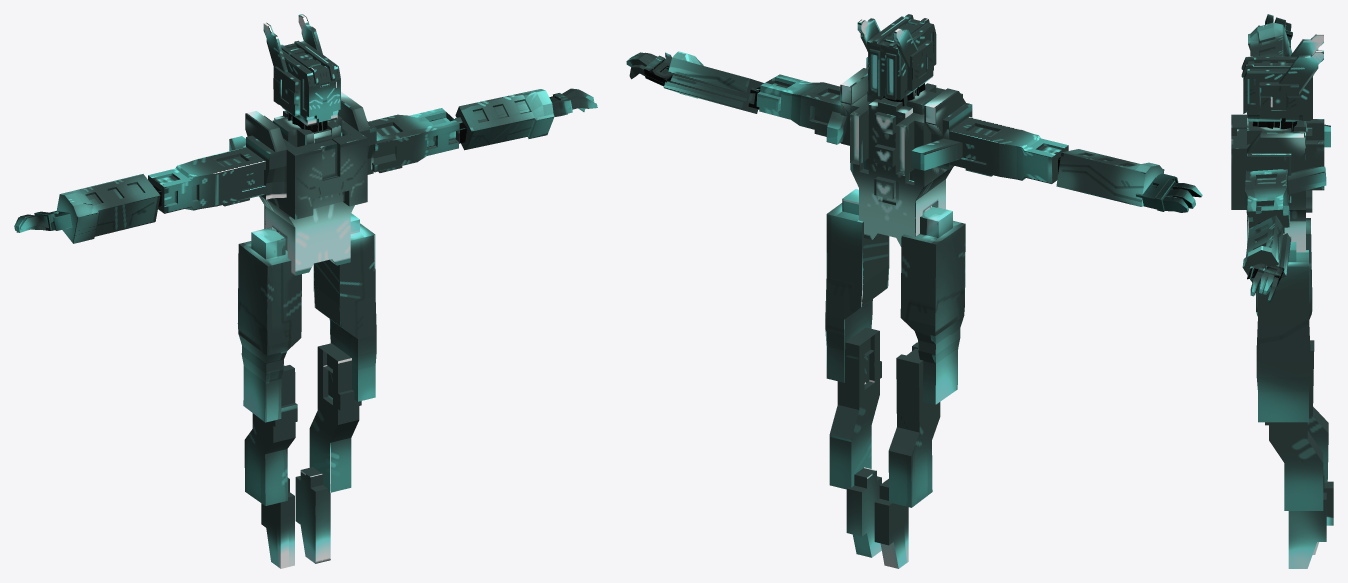
File: Player Model .fbx
The picture shows the model from 3 angles, left to right: view 1: azimuth 30°, elevation 25°; view 2: azimuth 150°, elevation 25°; view 3: azimuth 270°, elevation 25°; orthographic projection. The views are drawn at different scales.
Parts seen in each view (by area): view 1: Cube.001, Cube.014, Cube.004, Cube.006, Cube.011, Cube, Cube.012, Cube.005, Cube.009, Cube.008, Cube.007, Cube.003 (+1 smaller); view 2: Cube.001, Cube.014, Cube.004, Cube.011, Cube.006, Cube.005, Cube, Cube.008, Cube.012, Cube.009, Cube.007, Cube.003 (+1 smaller); view 3: Cube.004, Cube.001, Cube, Cube.006, Cube.008, Cube.009, Cube.007, Cube.012, Cube.005, Cube.014, Cube.003, Cube.023 (+4 smaller).
Boxes of the visible parts, left/top/right/bottom form: Cube.001: left=245, top=91, right=376, bottom=275; Cube.014: left=237, top=227, right=301, bottom=422; Cube.004: left=313, top=213, right=376, bottom=401; Cube.006: left=309, top=343, right=361, bottom=492; Cube.011: left=148, top=136, right=265, bottom=213; Cube: left=263, top=14, right=340, bottom=126; Cube.012: left=56, top=174, right=160, bottom=243; Cube.005: left=244, top=365, right=297, bottom=505; Cube.009: left=454, top=89, right=554, bottom=150; Cube.008: left=369, top=108, right=459, bottom=172; Cube.007: left=295, top=467, right=330, bottom=563; Cube.003: left=261, top=477, right=294, bottom=568; Cube.001: left=840, top=68, right=972, bottom=246; Cube.014: left=900, top=206, right=965, bottom=404; Cube.004: left=825, top=189, right=889, bottom=382; Cube.011: left=911, top=117, right=1068, bottom=183; Cube.006: left=829, top=327, right=881, bottom=489; Cube.005: left=888, top=342, right=940, bottom=507; Cube: left=857, top=14, right=936, bottom=100; Cube.008: left=756, top=74, right=846, bottom=144; Cube.012: left=1056, top=149, right=1164, bottom=206; Cube.009: left=663, top=51, right=763, bottom=113; Cube.007: left=846, top=467, right=881, bottom=557; Cube.003: left=874, top=479, right=908, bottom=568; Cube.004: left=1256, top=242, right=1310, bottom=422; Cube.001: left=1231, top=112, right=1324, bottom=252; Cube: left=1241, top=34, right=1323, bottom=121; Cube.006: left=1265, top=422, right=1323, bottom=510; Cube.008: left=1245, top=166, right=1326, bottom=233; Cube.009: left=1242, top=215, right=1290, bottom=290; Cube.007: left=1288, top=492, right=1326, bottom=568; Cube.012: left=1248, top=22, right=1292, bottom=56; Cube.005: left=1307, top=340, right=1328, bottom=482; Cube.014: left=1255, top=218, right=1312, bottom=319; Cube.003: left=1312, top=470, right=1333, bottom=554; Cube.023: left=1247, top=263, right=1284, bottom=286.
Bounding box in the file's own units: 1967 × 1765 × 320.
